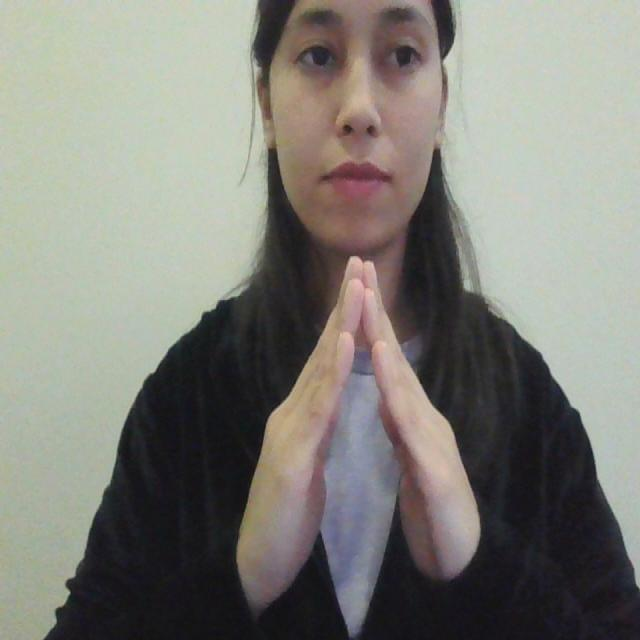Ev: (220, 252, 492, 638)
